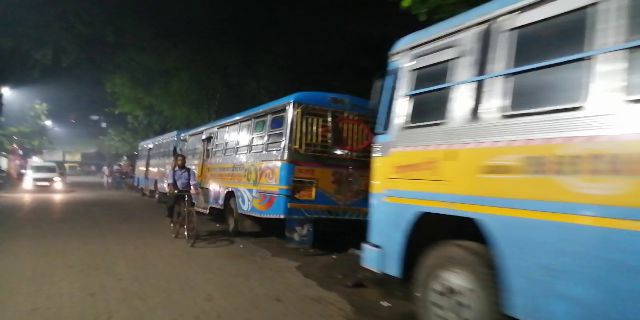Bus: (377, 20, 622, 301), (243, 87, 361, 244)
Cycle: (160, 155, 206, 245)
